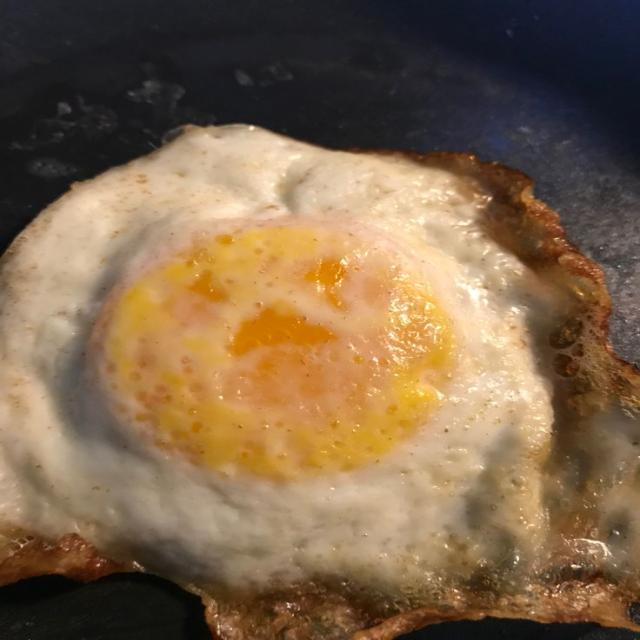fryed egg: (0, 126, 639, 639)
